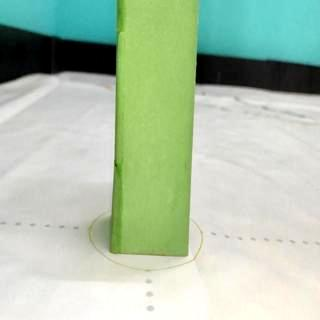greenbox: (110, 1, 200, 254)
